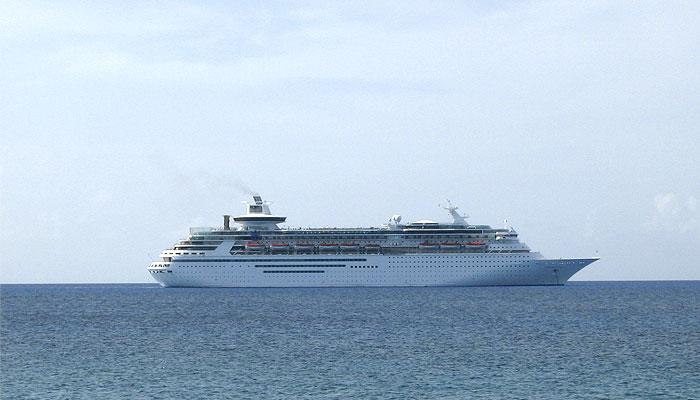youlun: (149, 195, 604, 288)
